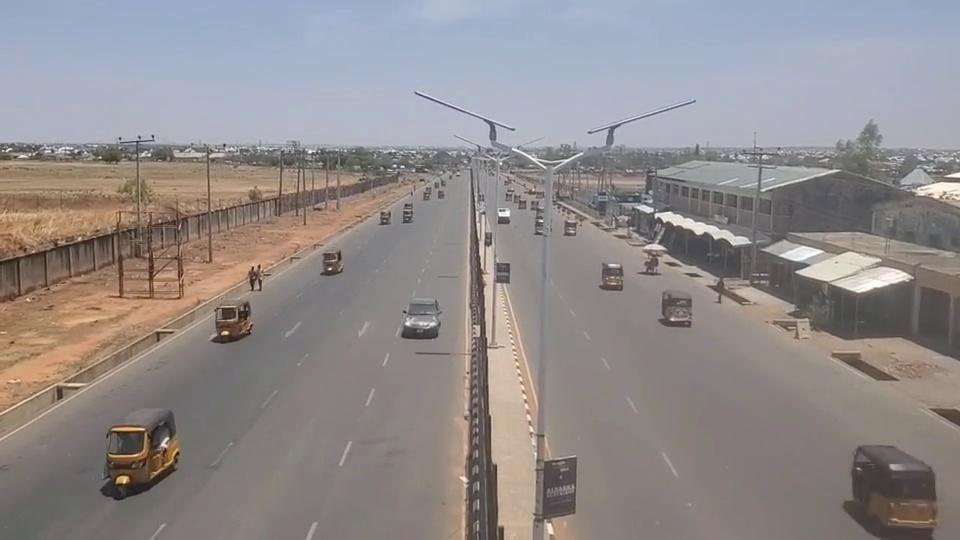car: (401, 297, 444, 337)
keke: (850, 443, 937, 532), (102, 406, 180, 492), (213, 300, 253, 341), (661, 289, 693, 326), (600, 262, 624, 290), (321, 249, 343, 275), (535, 214, 545, 234), (380, 210, 391, 225)
